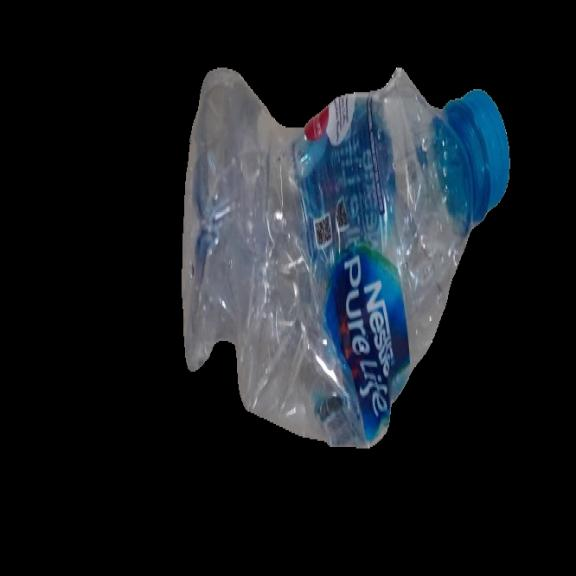Plastik: (178, 56, 516, 454)
